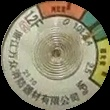green: (80, 10, 108, 44)
needle: (82, 28, 106, 46)
red: (35, 1, 87, 22)
yellow: (89, 38, 110, 90)
